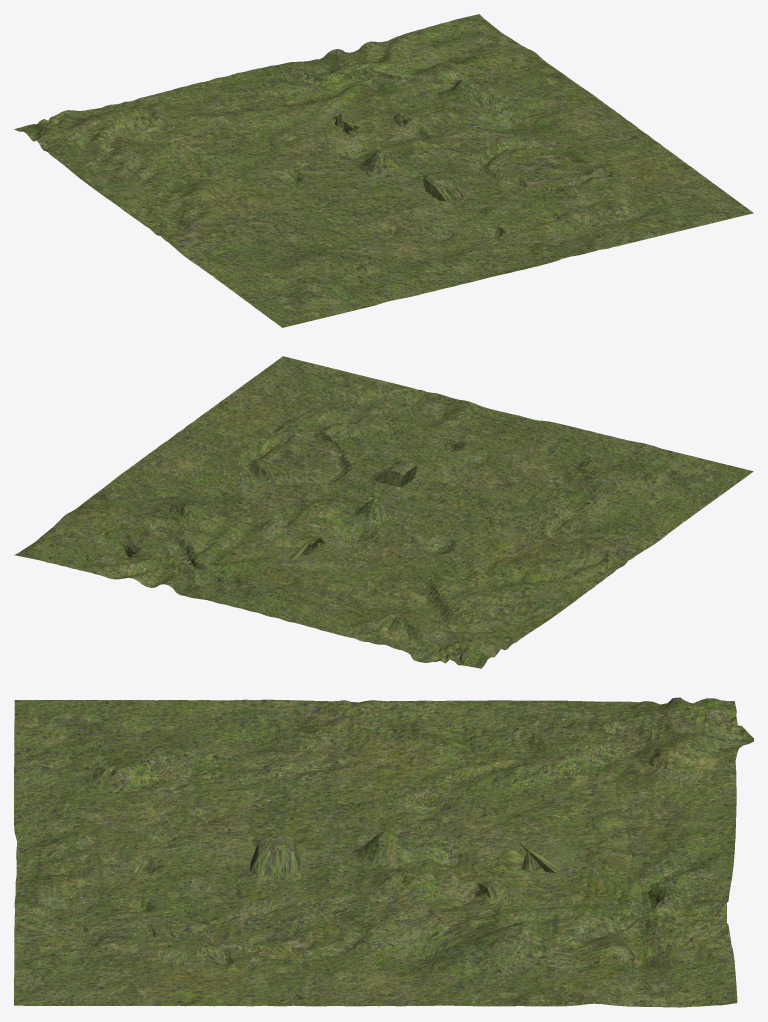
Rendered from map.dae.
3 renders of one model, top to bottom at view 1: azimuth 30°, elevation 25°; view 2: azimuth 150°, elevation 25°; view 3: azimuth 270°, elevation 25°, orthographic. The views are drawn at different scales.
Visible parts, largest first — view 1: Plane; view 2: Plane; view 3: Plane.
Boxes of the visible parts, x1,y1,x2,y2 form: Plane: (14, 14, 753, 327); Plane: (14, 356, 753, 668); Plane: (14, 697, 753, 1007).
Size of the model in its own units: 60.12 by 61.37 by 3.64.
